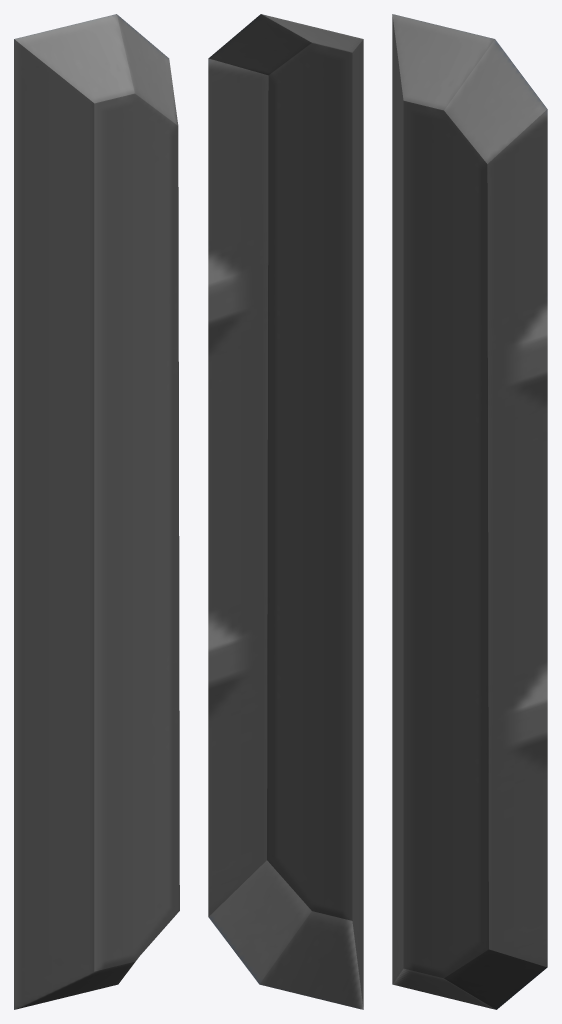
Rendered from left.gltf.
3 views of the same model, side by side, from view 1: azimuth 30°, elevation 25°; view 2: azimuth 150°, elevation 25°; view 3: azimuth 330°, elevation 25° (orthographic).
Visible parts, largest first — view 1: left; view 2: left; view 3: left.
Boxes of the visible parts, x1,y1,x2,y2 form: left: (14,14,179,1009); left: (208,14,363,1009); left: (392,14,547,1009).
Bounding box in the file's own units: 0.207 × 1.24 × 0.08.
Materials: 1 (1 with a texture image).
